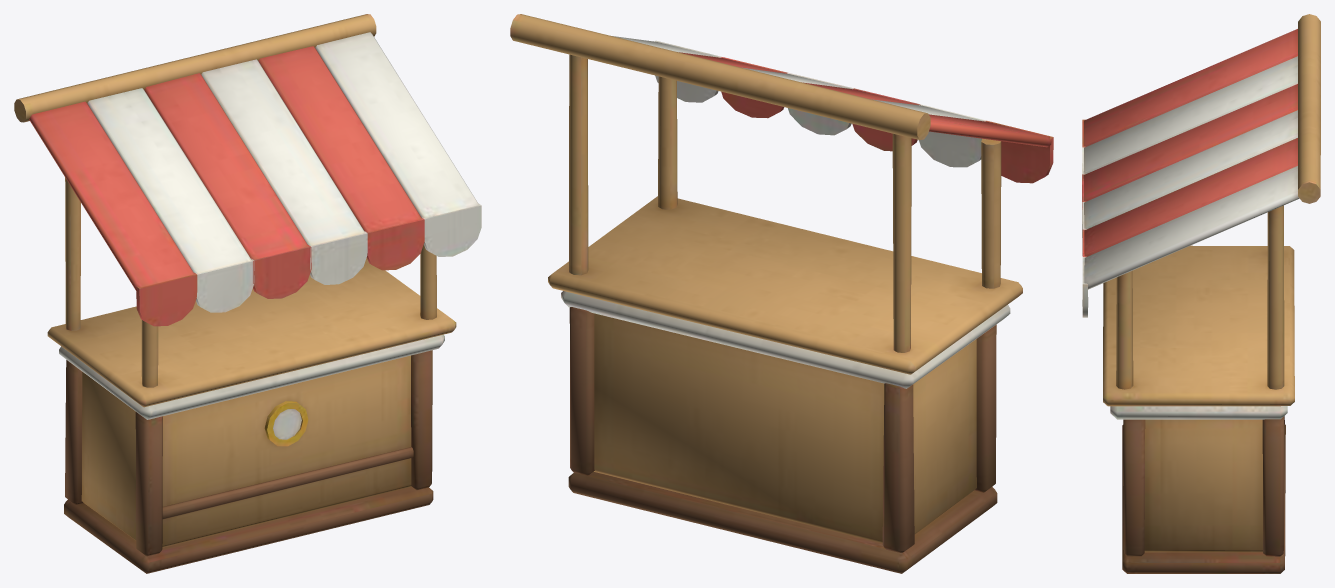
File: market-stall.glb
3 views of the same model, side by side, from view 1: azimuth 30°, elevation 25°; view 2: azimuth 150°, elevation 25°; view 3: azimuth 270°, elevation 25° (orthographic). The views are drawn at different scales.
Visible parts, largest first — view 1: market-stall; view 2: market-stall; view 3: market-stall.
Part boxes in pixels (left/top/right/bottom): market-stall: left=14, top=14, right=481, bottom=573; market-stall: left=510, top=14, right=1053, bottom=573; market-stall: left=1082, top=14, right=1320, bottom=573.
Size of the model in its own units: 1.66 by 1.88 by 0.996.
Materials: 5 (5 with a texture image).
